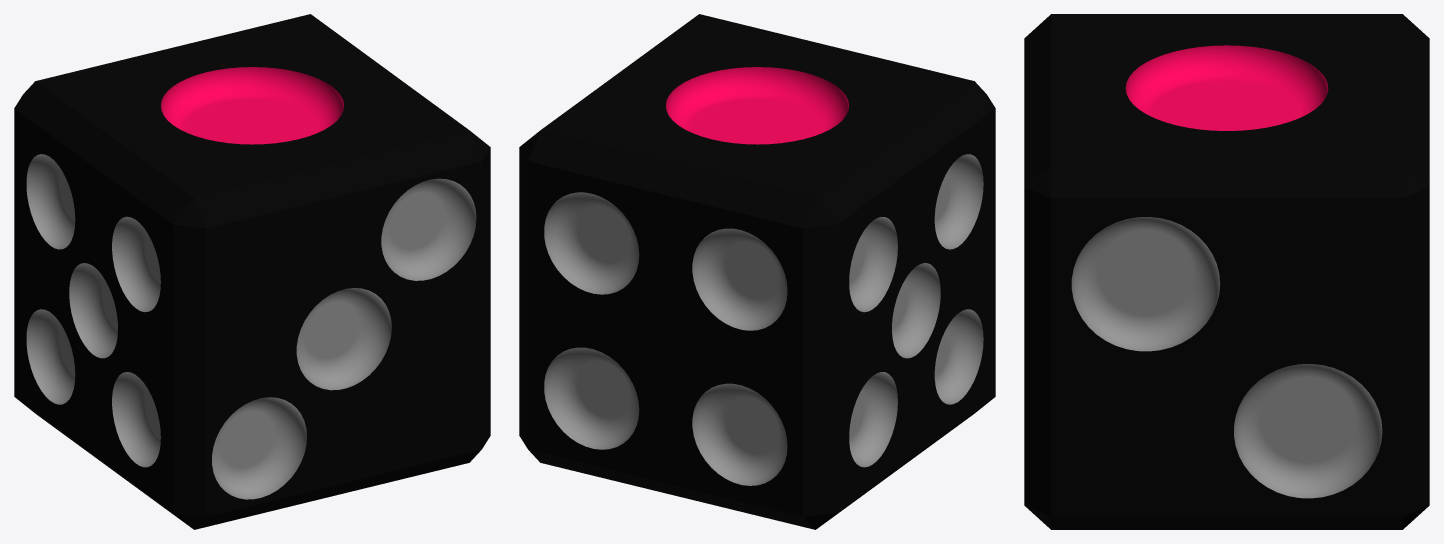
The model's file is saikoro2.glb.
3 views of the same model, side by side, from view 1: azimuth 30°, elevation 25°; view 2: azimuth 150°, elevation 25°; view 3: azimuth 270°, elevation 25° (orthographic). The views are drawn at different scales.
Visible parts, largest first — view 1: さいころ; view 2: さいころ; view 3: さいころ.
Part boxes in pixels (x1,y1,x2,y2): さいころ: (14, 14, 490, 529); さいころ: (519, 14, 995, 529); さいころ: (1024, 14, 1429, 529).
Bounding box in the file's own units: 0.03 × 0.03 × 0.03.
